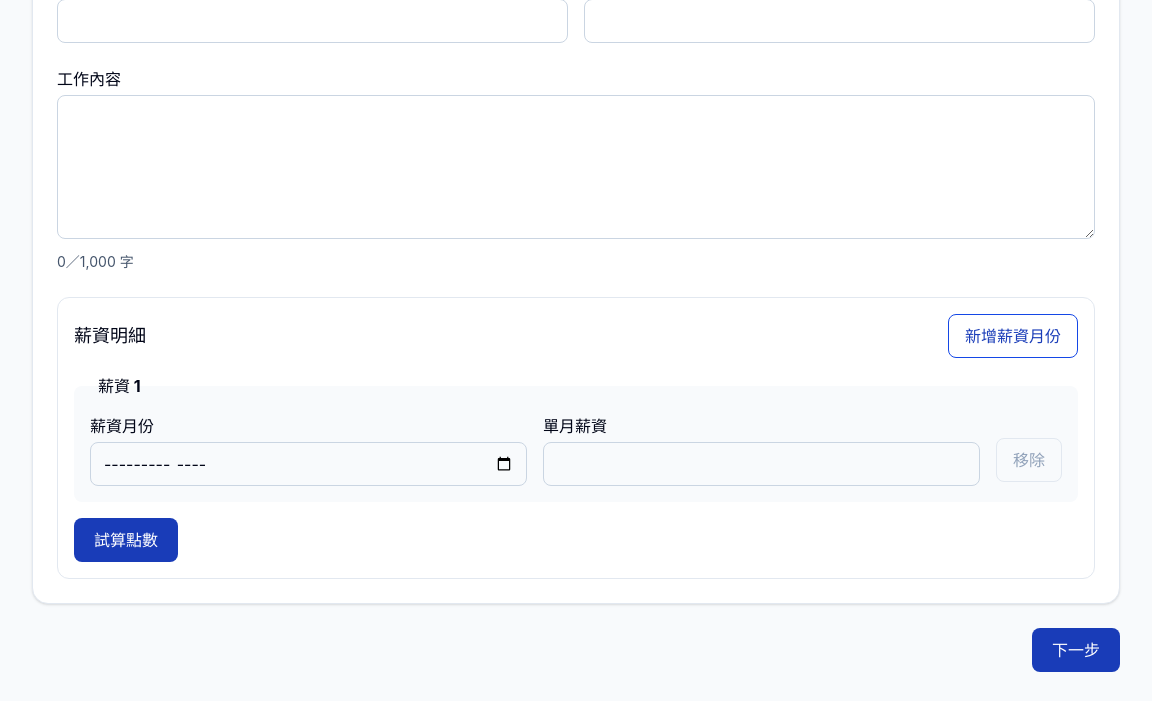
Scenario: project participation application page › keeps salary input after a 5xx estimate failure and retries only on demand
(page scrolled)
Type "2026-06" into the field labelled "薪資月份". click: (308, 464)
box: [90,442,527,486]
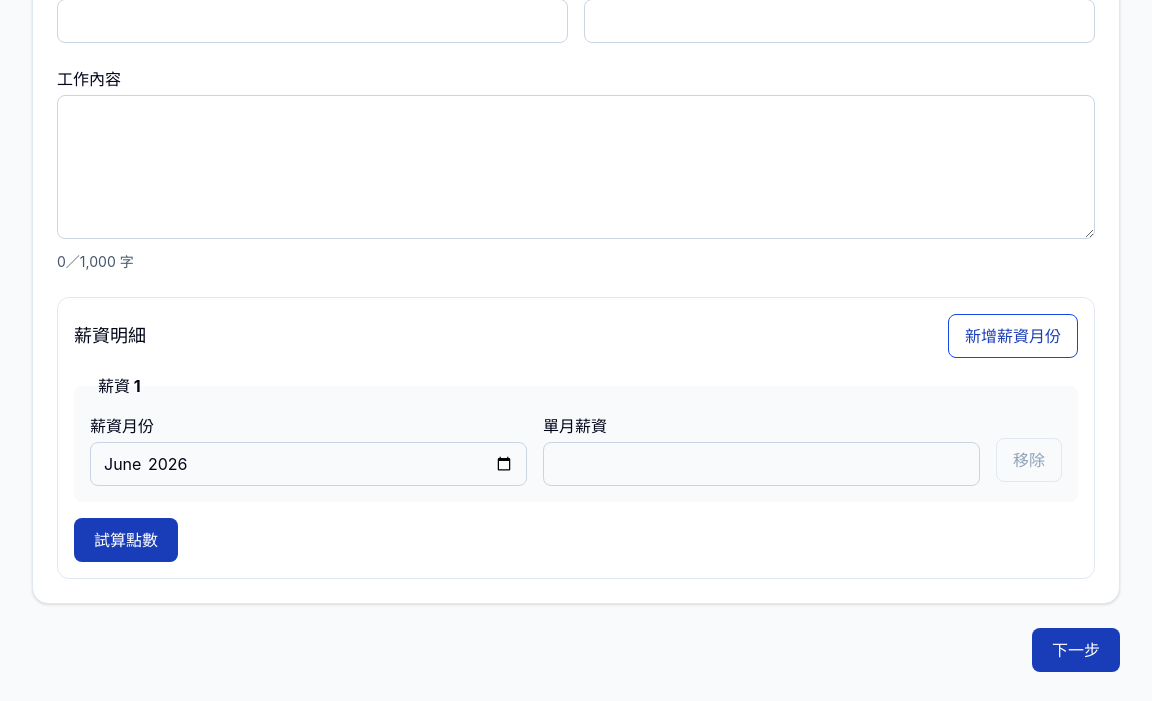
Type "8500" into the number field labelled "單月薪資". click: (762, 464)
box: [543,442,980,486]
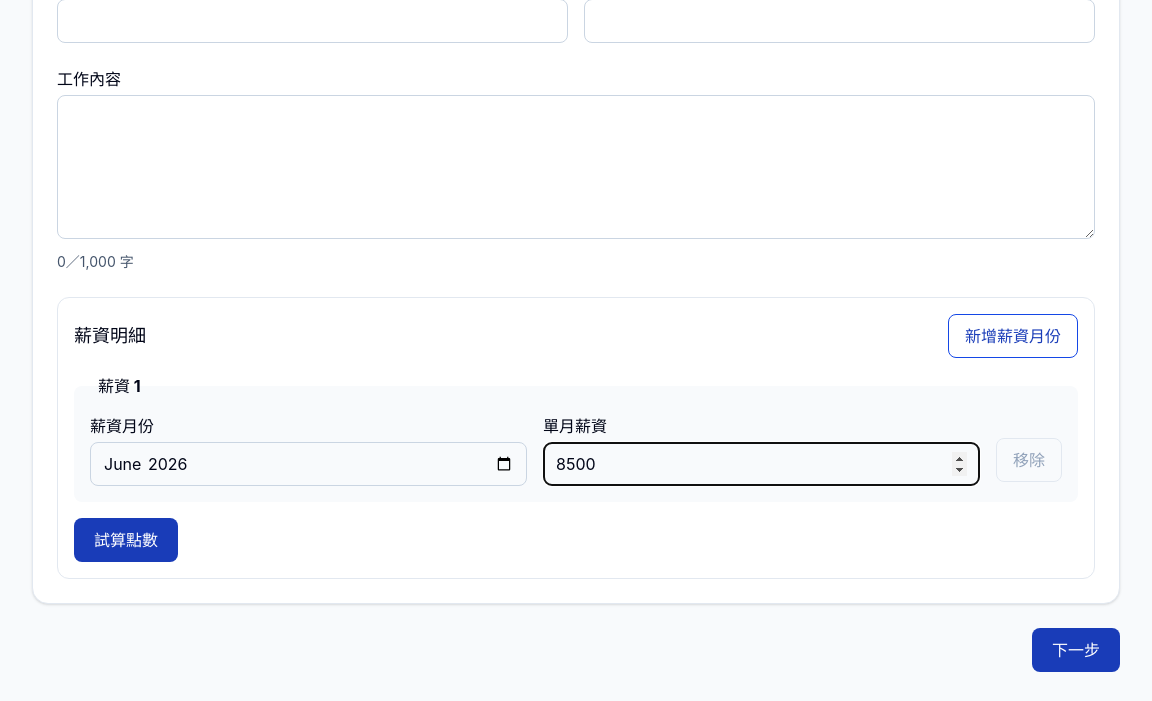
Click the button "試算點數". click: (126, 540)
box: [74,518,178,562]
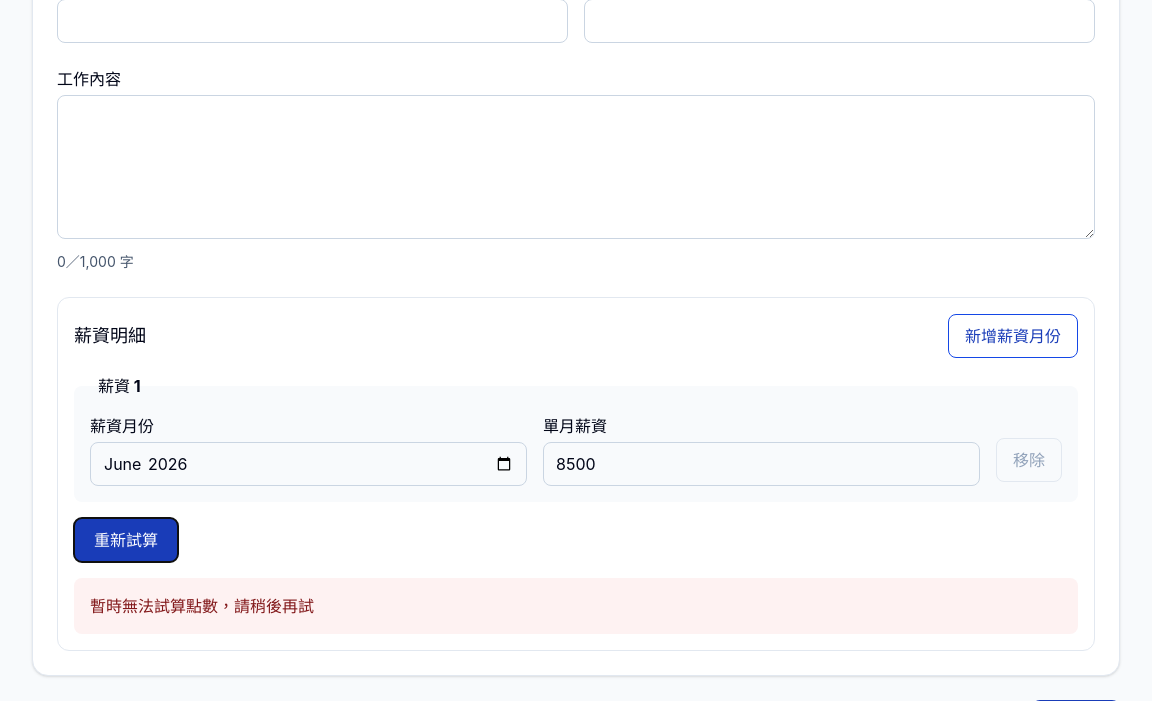
Check: the message shows "暫時無法試算點數", box [90,596,314,616]
Click the button "重新試算". click: (126, 540)
box: [74,518,178,562]
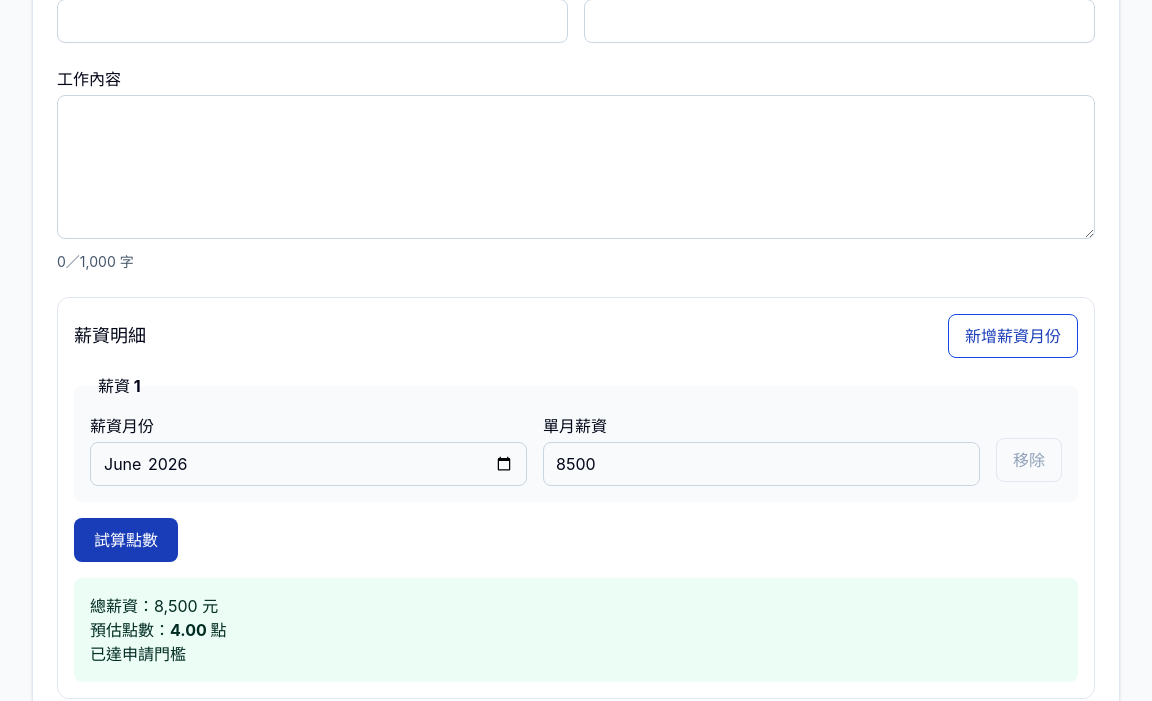
Check: the text "預估點數：4.00 點" is shown, box [90,620,226,640]
